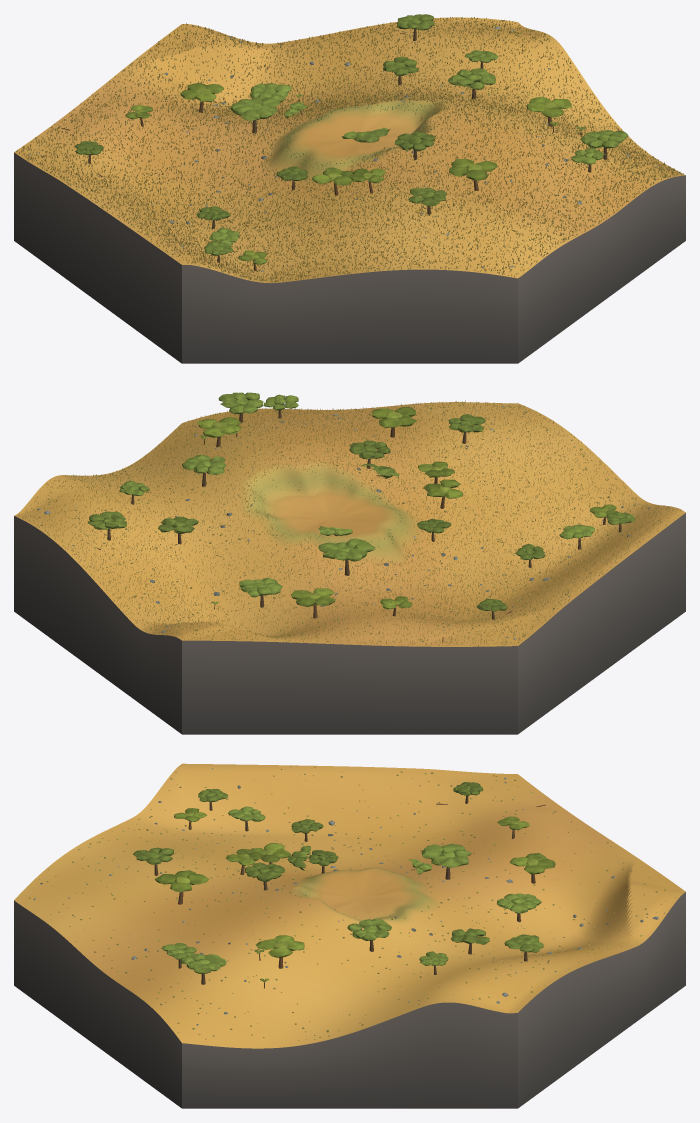
3 views of the same model, one above another, from view 1: azimuth 30°, elevation 25°; view 2: azimuth 150°, elevation 25°; view 3: azimuth 270°, elevation 25° (orthographic).
Visible parts, largest first — view 1: terrain, hex_side_cut, wildflowers, broadleaf_canopy, shrubs, trunks, boulders; view 2: terrain, hex_side_cut, wildflowers, broadleaf_canopy, shrubs, trunks, boulders; view 3: terrain, hex_side_cut, broadleaf_canopy, shrubs, trunks, boulders.
Part boxes in pixels (<box>): terrain: <box>14,17,685,283</box>; hex_side_cut: <box>14,152,685,363</box>; wildflowers: <box>16,17,683,282</box>; broadleaf_canopy: <box>74,14,628,264</box>; shrubs: <box>27,19,676,281</box>; trunks: <box>88,28,607,270</box>; boulders: <box>28,26,656,278</box>; terrain: <box>14,402,685,646</box>; hex_side_cut: <box>14,513,685,734</box>; wildflowers: <box>18,400,680,645</box>; broadleaf_canopy: <box>87,392,635,611</box>; shrubs: <box>39,403,675,643</box>; trunks: <box>107,410,621,619</box>; boulders: <box>37,406,662,640</box>; terrain: <box>14,763,685,1048</box>; hex_side_cut: <box>14,892,685,1108</box>; broadleaf_canopy: <box>133,782,555,981</box>; shrubs: <box>29,766,676,1040</box>; trunks: <box>154,796,535,988</box>; boulders: <box>33,768,658,1025</box>.
Bounding box in the file's own units: 4330 × 1051 × 5000.
